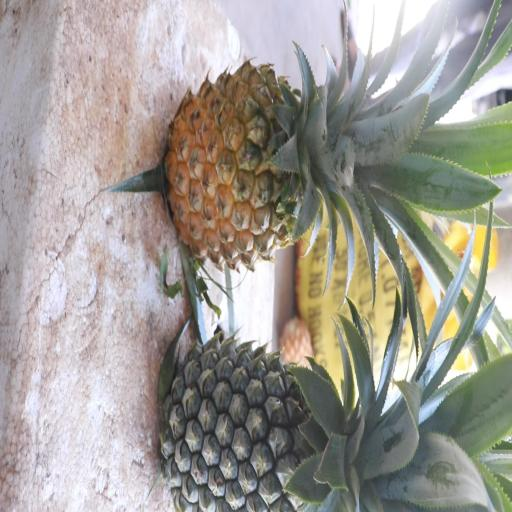Pineapple - v8 v1: (168, 60, 438, 264)
